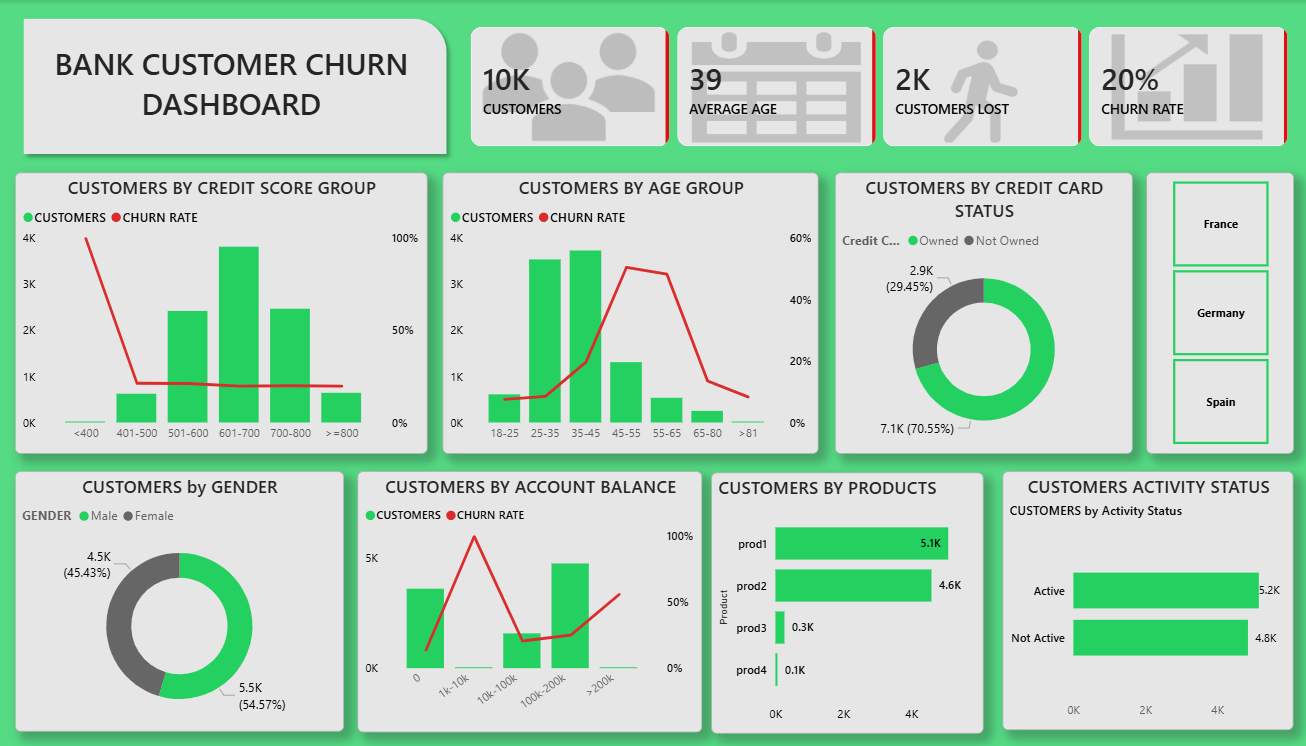

The page's visual inventory and layout, read from the dashboard file:
{"tool":"powerbi","page":{"name":"Page 1","canvas":[1400,800],"ordinal":0},"visuals":[{"type":"cardVisual","fields":{"Data":["Customer Records.CUSTOMERS","Customer Records.AVERAGE AGE","Customer Records.CUSTOMERS LOST","Customer Records.CHURN RATE"]},"box":[487.9,12.1,911.5,162.2],"z":0},{"type":"lineClusteredColumnComboChart","title":"CHURN RATE BY AGE GROUP","fields":{"Y2":["Customer Records.CHURN RATE"],"Y":["Customer Records.CUSTOMERS"],"Category":["Age Groups.Age Group"]},"box":[406.2,185,471.9,301.6],"z":1000},{"type":"donutChart","fields":{"Y":["Customer Records.CUSTOMERS"],"Category":["Customer Records.Gender"]},"box":[16.1,185,374,301.6],"z":2000},{"type":"lineClusteredColumnComboChart","title":"CHURN RATE BY CREDIT SCORE GROUP","fields":{"Y":["Customer Records.CUSTOMERS"],"Y2":["Customer Records.CHURN RATE"],"Category":["Credit score Group.Credit Score"]},"box":[687.7,508,367.3,274.8],"z":3000},{"type":"lineClusteredColumnComboChart","title":"CHURN RATE BY ACCOUNT BALANCE","fields":{"Y2":["Customer Records.CHURN RATE"],"Y":["Customer Records.CUSTOMERS"],"Category":["Account Balance Group.Account Balance"]},"box":[343.2,506.7,332.4,276.1],"z":4000},{"type":"slicer","fields":{"Values":["Customer Records.Geography"]},"box":[1229.2,185,158.2,301.6],"z":5000},{"type":"donutChart","title":"CUSTOMERS BY PRODUCTS","fields":{"Category":["Customer Records.Product"],"Y":["Customer Records.CUSTOMERS"]},"box":[1069.7,508,317.7,274.8],"z":6000},{"type":"barChart","title":"CUSTOMERS ACTIVITY STATUS","fields":{"Category":["Customer Records.Activity Status"],"Y":["Customer Records.CUSTOMERS"]},"box":[16.1,508,316.4,274.8],"z":7000},{"type":"funnel","title":"CUSTOMERS BY CREDIT CARD STATUS","fields":{"Y":["Customer Records.CUSTOMERS"],"Category":["Customer Records.Credit Card Status"]},"box":[895.4,185,319,301.6],"z":8000},{"type":"shape","box":[16.1,10.7,471.9,163.5],"z":9000},{"type":"textbox","box":[49.6,41.6,396.8,111.3],"z":10000}]}

Visuals, with their boxes in screenshot pixels (x1, y1, x2, y2), scaled from the page's 1400x800 canvas onto the 1306x746 screenshot:
cardVisual - Customer Records.CUSTOMERS x Customer Records.AVERAGE AGE: [455, 11, 1305, 163]
"CHURN RATE BY AGE GROUP" lineClusteredColumnComboChart: [379, 173, 819, 454]
donutChart - Customer Records.CUSTOMERS x Customer Records.Gender: [15, 173, 364, 454]
"CHURN RATE BY CREDIT SCORE GROUP" lineClusteredColumnComboChart: [642, 474, 984, 730]
"CHURN RATE BY ACCOUNT BALANCE" lineClusteredColumnComboChart: [320, 472, 630, 730]
slicer - Customer Records.Geography: [1147, 173, 1294, 454]
"CUSTOMERS BY PRODUCTS" donutChart: [998, 474, 1294, 730]
"CUSTOMERS ACTIVITY STATUS" barChart: [15, 474, 310, 730]
"CUSTOMERS BY CREDIT CARD STATUS" funnel: [835, 173, 1133, 454]
shape: [15, 10, 455, 162]
textbox: [46, 39, 416, 143]
